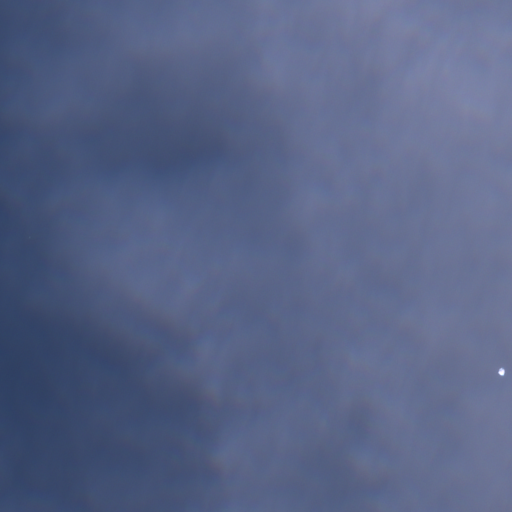Iceberg: (498, 367, 504, 375)
